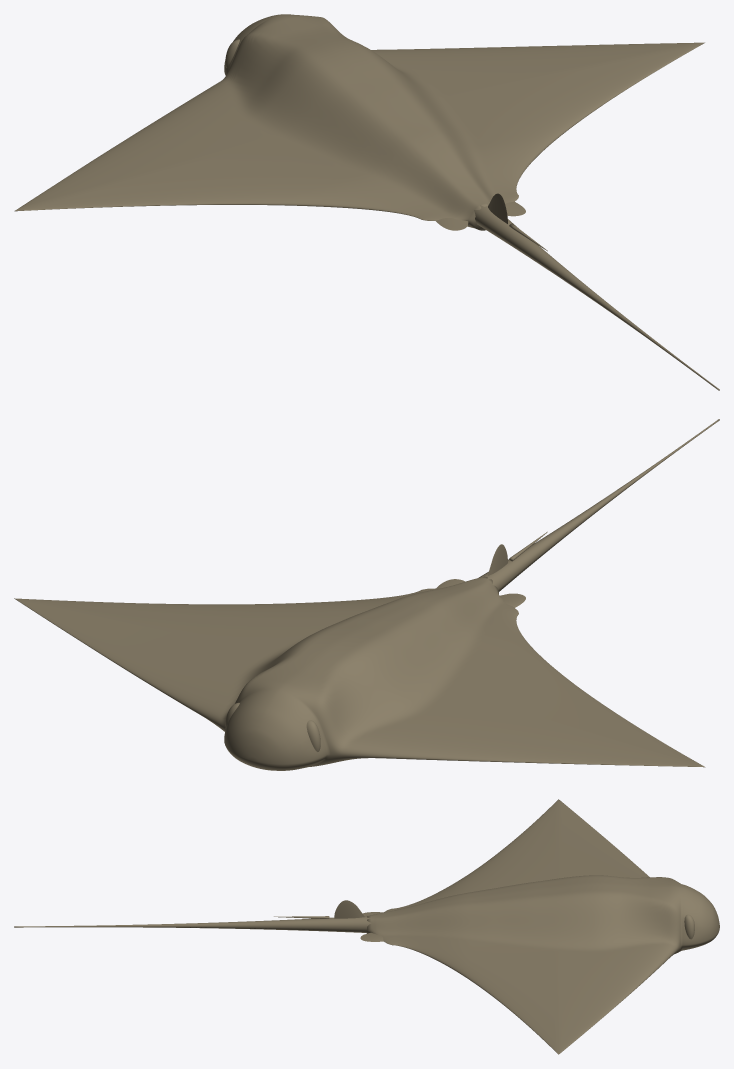
The model's file is bat_ray.glb.
3 views of the same model, one above another, from view 1: azimuth 30°, elevation 25°; view 2: azimuth 150°, elevation 25°; view 3: azimuth 270°, elevation 25° (orthographic). The views are drawn at different scales.
Visible parts, largest first — view 1: bat_ray; view 2: bat_ray; view 3: bat_ray.
Part boxes in pixels (bbox=[...]): bat_ray: bbox=[14, 14, 719, 390]; bat_ray: bbox=[14, 419, 719, 770]; bat_ray: bbox=[14, 799, 719, 1054].
Size of the model in its own units: 1.2 by 0.1428 by 1.4.
